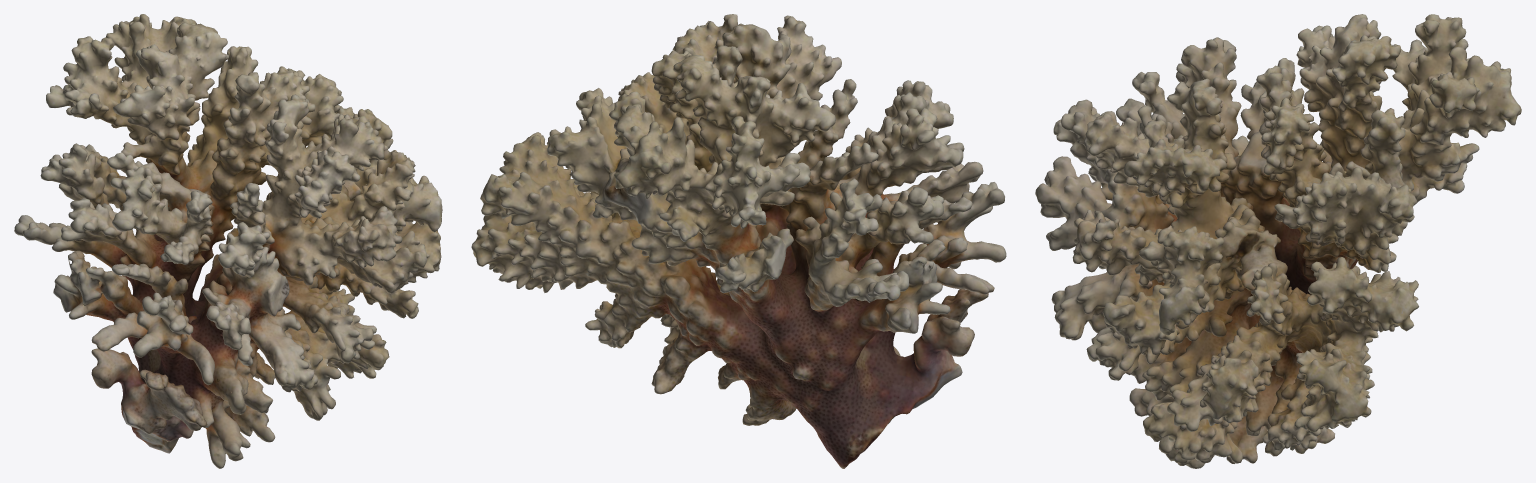
The model's file is pocillopora.glb.
The picture shows the model from 3 angles, left to right: view 1: azimuth 30°, elevation 25°; view 2: azimuth 150°, elevation 25°; view 3: azimuth 270°, elevation 25°; orthographic projection. The views are drawn at different scales.
Visible parts, largest first — view 1: Pocillopora_danae-unwrapped-webmulti; view 2: Pocillopora_danae-unwrapped-webmulti; view 3: Pocillopora_danae-unwrapped-webmulti.
Boxes of the visible parts, bbox=[...] form: Pocillopora_danae-unwrapped-webmulti: bbox=[14, 14, 442, 468]; Pocillopora_danae-unwrapped-webmulti: bbox=[471, 14, 1006, 468]; Pocillopora_danae-unwrapped-webmulti: bbox=[1035, 14, 1521, 468].
Bounding box in the file's own units: 0.1382 × 0.1273 × 0.129.
1 material, 1 textured.
